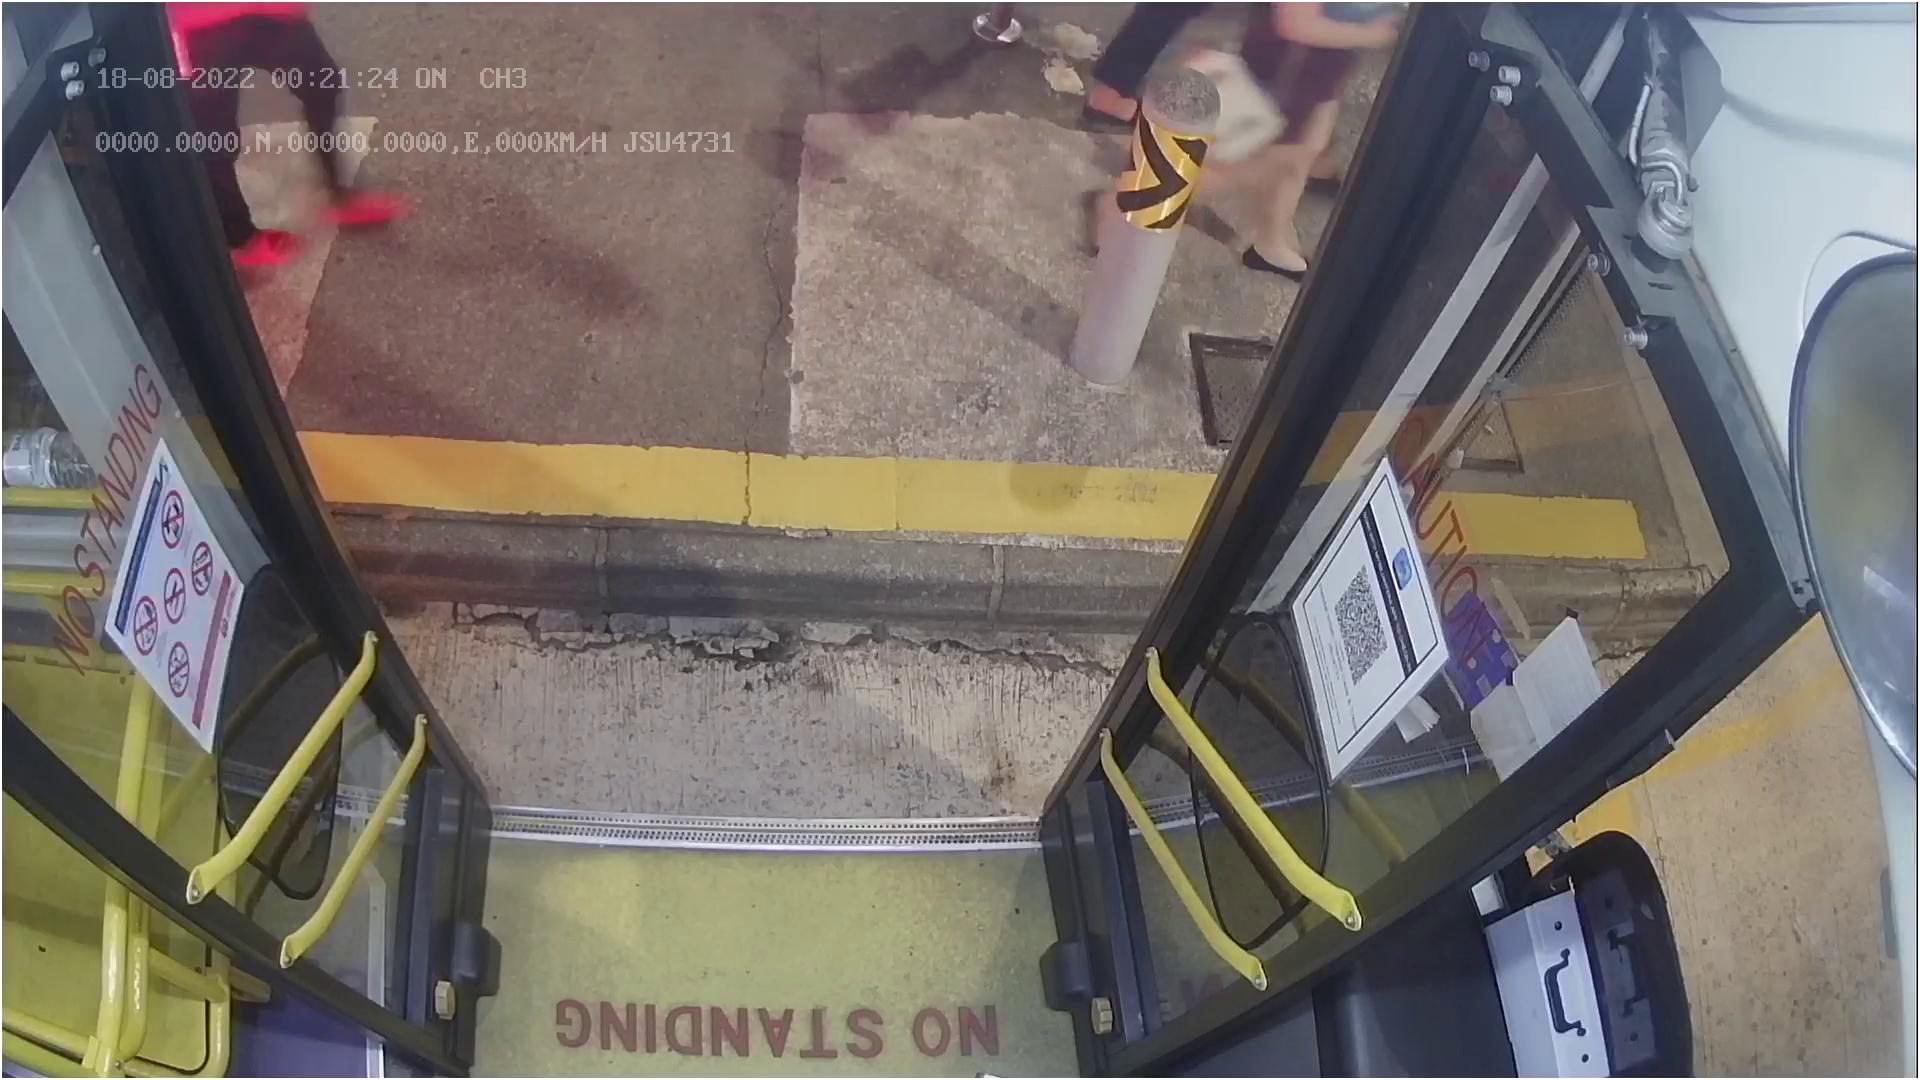open: (170, 0, 1396, 164)
